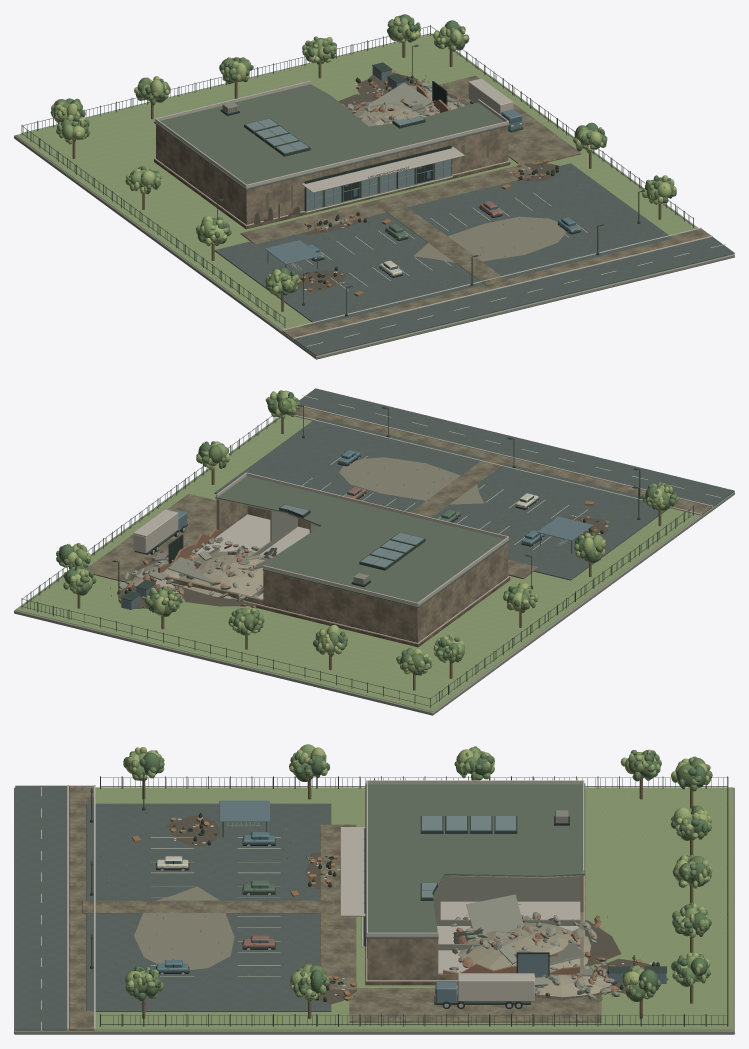
The model's file is supermarket-abandoned.glb.
The picture shows the model from 3 angles, top to bottom: view 1: azimuth 30°, elevation 25°; view 2: azimuth 150°, elevation 25°; view 3: azimuth 270°, elevation 25°; orthographic projection. The views are drawn at different scales.
Parts seen in each view (by area): view 1: 材质批次_asphalt, 材质批次_grass, 材质批次_sage_metal_roof, 材质批次_plaza_paving, 材质批次_limestone, 材质批次_warm_cream_trim, 材质批次_poi_service_concrete, 材质批次_street_metal, 材质批次_abandoned_dust, 材质批次_leaf_2, 材质批次_poi_window_lit, 材质批次_leaf_0 (+12 smaller); view 2: 材质批次_grass, 材质批次_asphalt, 材质批次_sage_metal_roof, 材质批次_limestone, 材质批次_plaza_paving, 材质批次_warm_cream_trim, 材质批次_poi_service_concrete, 材质批次_street_metal, 材质批次_abandoned_dust, 材质批次_leaf_1, 材质批次_leaf_2, 材质批次_planter_gravel (+9 smaller); view 3: 材质批次_asphalt, 材质批次_grass, 材质批次_sage_metal_roof, 材质批次_plaza_paving, 材质批次_poi_service_concrete, 材质批次_warm_cream_trim, 材质批次_street_metal, 材质批次_abandoned_dust, 材质批次_leaf_1, 材质批次_leaf_3, 材质批次_planter_gravel, 材质批次_leaf_2 (+12 smaller).
Boxes of the visible parts, x1,y1,x2,y2 form: 材质批次_asphalt: [214, 163, 734, 355]; 材质批次_grass: [16, 33, 697, 329]; 材质批次_sage_metal_roof: [153, 84, 510, 189]; 材质批次_plaza_paving: [240, 75, 711, 338]; 材质批次_limestone: [156, 100, 508, 224]; 材质批次_warm_cream_trim: [154, 78, 712, 339]; 材质批次_poi_service_concrete: [14, 33, 734, 359]; 材质批次_street_metal: [21, 25, 693, 327]; 材质批次_abandoned_dust: [413, 216, 565, 262]; 材质批次_leaf_2: [51, 16, 676, 302]; 材质批次_poi_window_lit: [245, 116, 450, 210]; 材质批次_leaf_0: [51, 17, 662, 296]; 材质批次_grass: [16, 414, 699, 711]; 材质批次_asphalt: [214, 388, 734, 580]; 材质批次_sage_metal_roof: [215, 476, 510, 607]; 材质批次_limestone: [165, 499, 508, 642]; 材质批次_plaza_paving: [86, 406, 711, 582]; 材质批次_warm_cream_trim: [127, 406, 712, 643]; 材质批次_poi_service_concrete: [14, 417, 734, 715]; 材质批次_street_metal: [21, 404, 693, 708]; 材质批次_abandoned_dust: [339, 457, 483, 504]; 材质批次_leaf_1: [56, 390, 676, 674]; 材质批次_leaf_2: [65, 390, 678, 674]; 材质批次_planter_gravel: [132, 551, 264, 598]; 材质批次_asphalt: [15, 785, 331, 1030]; 材质批次_grass: [67, 787, 733, 1030]; 材质批次_sage_metal_roof: [365, 783, 585, 938]; 材质批次_plaza_paving: [69, 785, 601, 1030]; 材质批次_poi_service_concrete: [14, 787, 734, 1034]; 材质批次_warm_cream_trim: [67, 780, 651, 1029]; 材质批次_street_metal: [90, 772, 728, 1026]; 材质批次_abandoned_dust: [134, 886, 234, 970]; 材质批次_leaf_1: [100, 750, 712, 1005]; 材质批次_leaf_3: [123, 746, 711, 1000]; 材质批次_planter_gravel: [458, 922, 611, 997]; 材质批次_leaf_2: [100, 747, 712, 1005].
Size of the model in its own units: 80.5 by 9.45 by 100.
35 materials, 5 textured.
